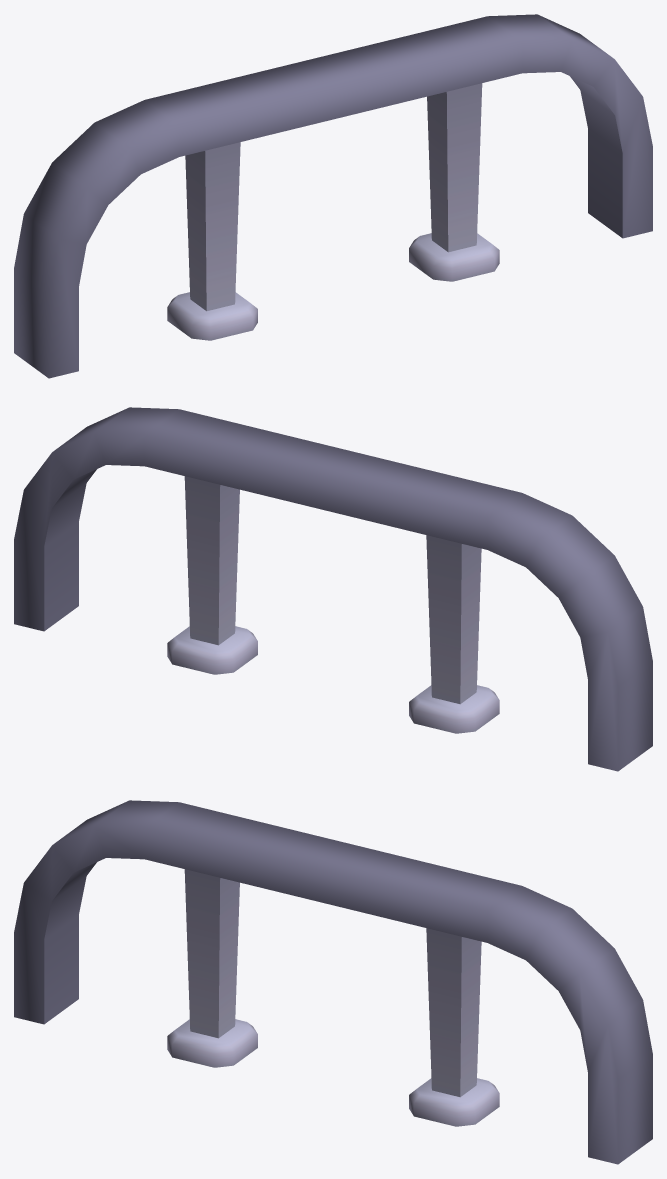
File: skate-fence.glb
3 renders of one model, top to bottom at view 1: azimuth 30°, elevation 25°; view 2: azimuth 150°, elevation 25°; view 3: azimuth 330°, elevation 25°, orthographic.
Parts seen in each view (by area): view 1: fence; view 2: fence; view 3: fence.
Boxes of the visible parts, x1=… form: fence: x1=14, y1=14, x2=652, y2=378; fence: x1=14, y1=407, x2=652, y2=771; fence: x1=14, y1=800, x2=652, y2=1164.
Bounding box in the file's own units: 1 × 0.35 × 0.11.
1 material, 1 textured.
